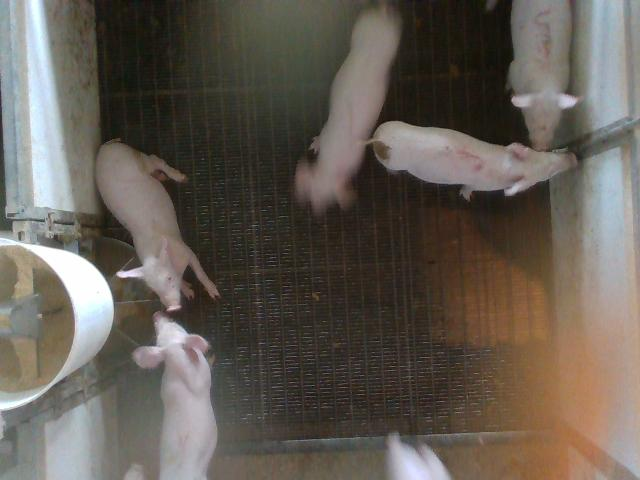pig-3: (508, 0, 579, 151)
pig-5: (366, 121, 576, 199)
